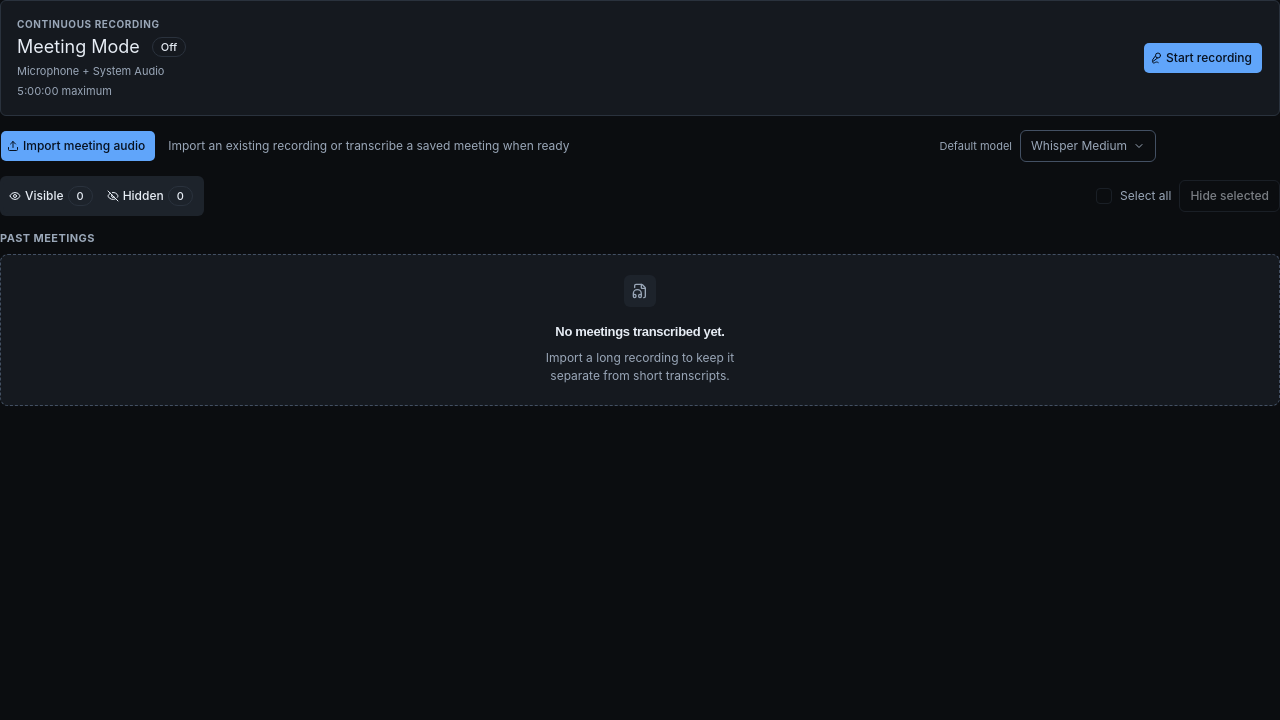
it: MeetingTranscriptionPanel permission preflight › opens configuration without starting transcription after import
The width and height of the screenshot is (1280, 720).
What coordinates should you click on to do the following:
click the button "Import meeting audio"
I would click on:
 (78, 146)
Its box is [0,130,156,162].
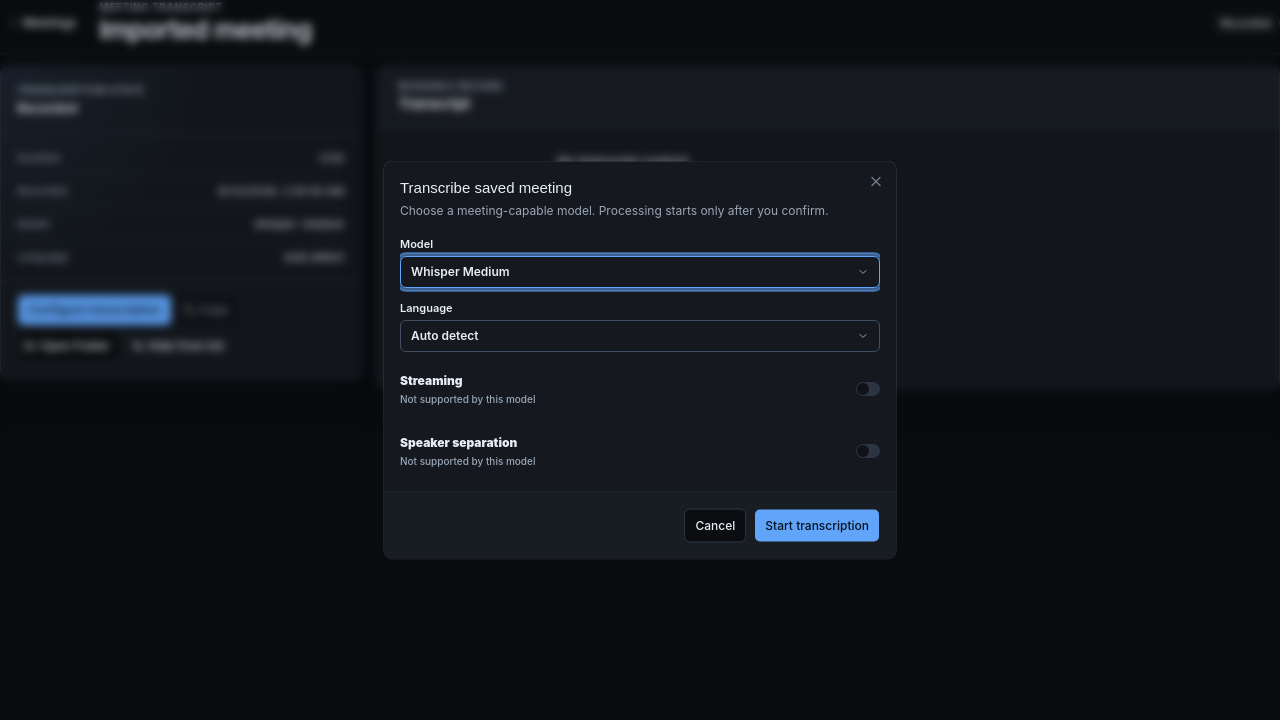
Result: the dialog is shown at [384,162,896,558]
Result: the heading "Transcribe saved meeting" is shown at [400,178,572,196]
